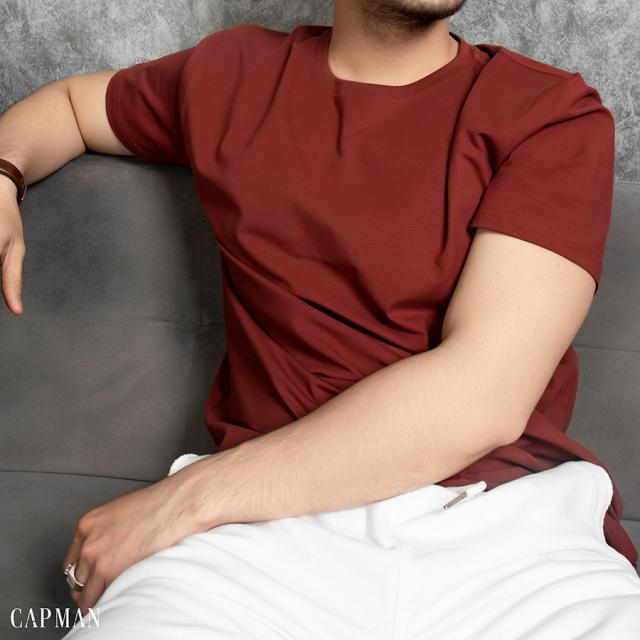Shirt: (105, 19, 640, 566)
